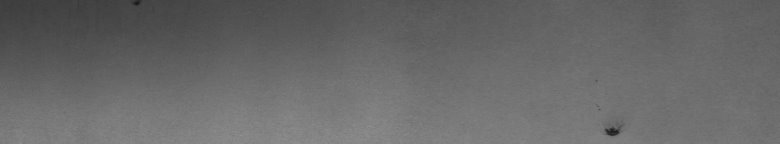fi: (597, 120, 628, 136)
